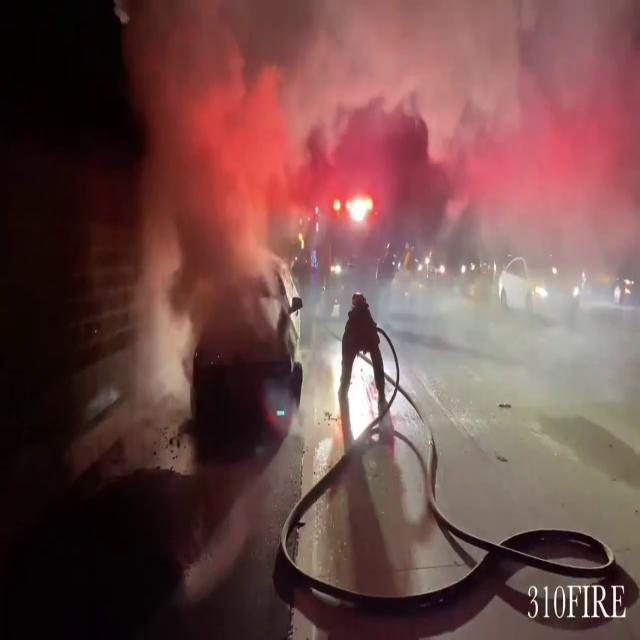Smoke: (109, 0, 338, 408), (378, 0, 640, 248)
